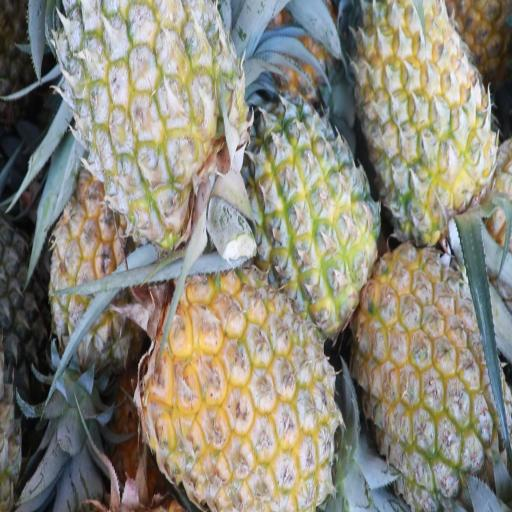------------------------------: (58, 0, 242, 232), (249, 102, 374, 315), (51, 173, 139, 383)
Pineapple - v8 v1: (154, 277, 339, 508), (363, 252, 498, 491), (357, 0, 493, 220)
